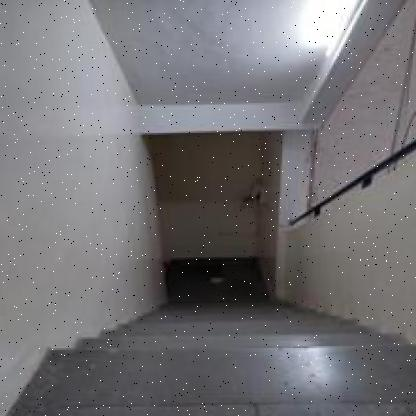stair_down: (107, 285, 357, 384)
